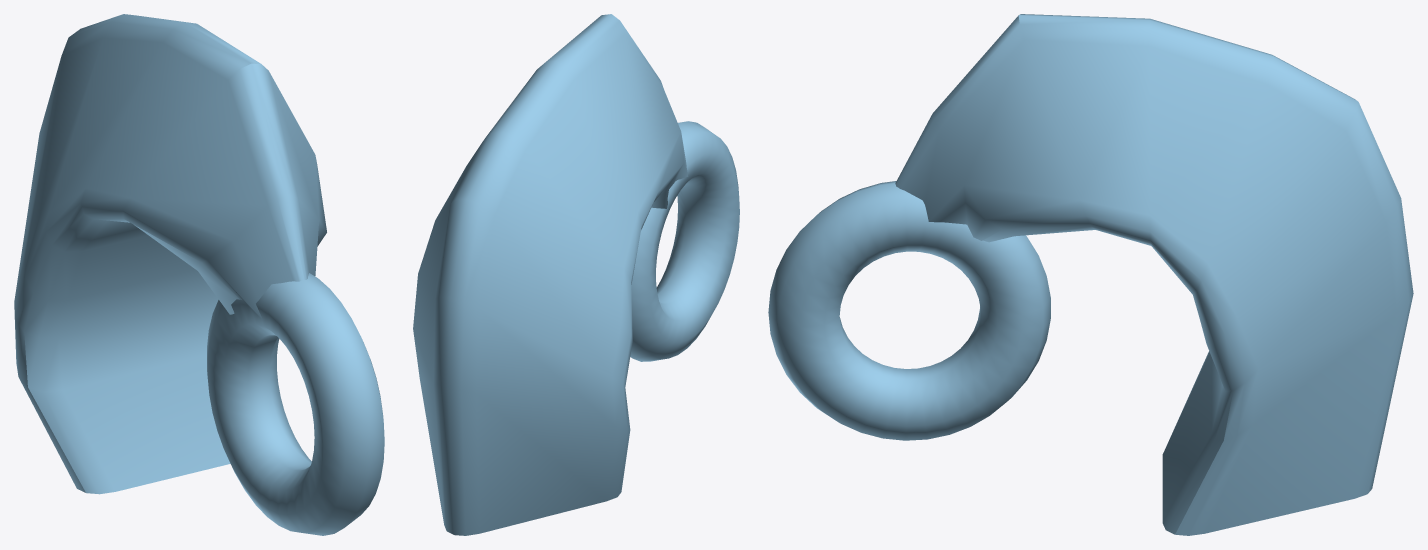
Rendered from TriDounutHoles1NEW-1.fbx.
3 renders of one model, left to right at view 1: azimuth 30°, elevation 25°; view 2: azimuth 150°, elevation 25°; view 3: azimuth 270°, elevation 25°, orthographic. The views are drawn at different scales.
Visible parts, largest first — view 1: Torus.003; view 2: Torus.003; view 3: Torus.003.
Part boxes in pixels (x1,y1,x2,y2): Torus.003: [14, 14, 384, 535]; Torus.003: [413, 14, 739, 535]; Torus.003: [768, 14, 1413, 535].
Size of the model in its own units: 110 by 201 by 249.
